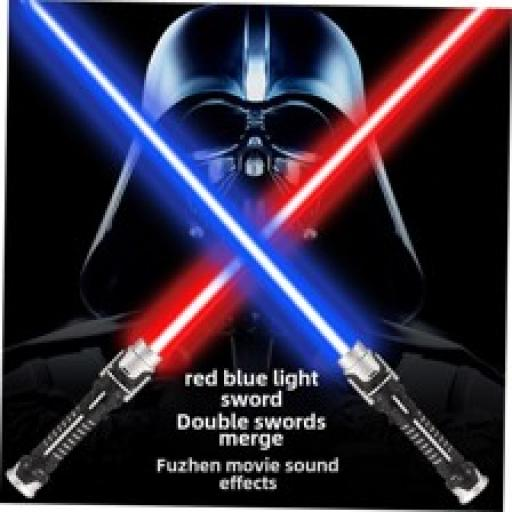lightsaber: (31, 2, 490, 504)
sith saber: (7, 8, 487, 498)
